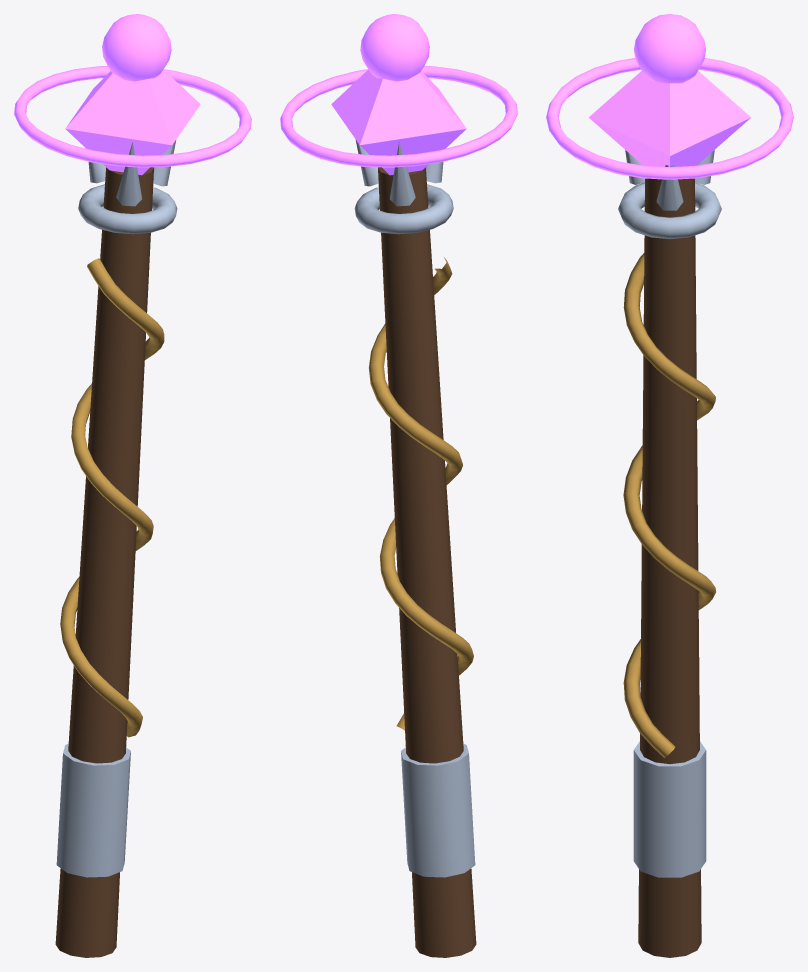
Rendered from weapon_staff.glb.
3 views of the same model, side by side, from view 1: azimuth 30°, elevation 25°; view 2: azimuth 150°, elevation 25°; view 3: azimuth 270°, elevation 25° (orthographic). The views are drawn at different scales.
Visible parts, largest first — view 1: blade_mesh, weapon_rune, weapon_grip, staff_vine, weapon_staff, weapon_rune_halo, staff_prong_1; view 2: blade_mesh, weapon_rune, weapon_grip, weapon_staff, staff_vine, weapon_rune_halo, staff_prong_2; view 3: blade_mesh, weapon_rune, weapon_grip, staff_vine, weapon_staff, weapon_rune_halo, staff_prong_0.
Part boxes in pixels (left/top/right/bottom): blade_mesh: left=55, top=167, right=153, bottom=957; weapon_rune: left=65, top=69, right=200, bottom=175; weapon_grip: left=56, top=743, right=130, bottom=877; staff_vine: left=60, top=258, right=164, bottom=737; weapon_staff: left=78, top=14, right=177, bottom=234; weapon_rune_halo: left=14, top=66, right=251, bottom=167; staff_prong_1: left=116, top=142, right=141, bottom=206; blade_mesh: left=378, top=167, right=476, bottom=957; weapon_rune: left=331, top=69, right=466, bottom=175; weapon_grip: left=401, top=743, right=475, bottom=877; weapon_staff: left=354, top=14, right=453, bottom=234; staff_vine: left=368, top=257, right=473, bottom=730; weapon_rune_halo: left=280, top=66, right=517, bottom=167; staff_prong_2: left=390, top=142, right=415, bottom=206; blade_mesh: left=638, top=178, right=701, bottom=957; weapon_rune: left=589, top=71, right=750, bottom=166; weapon_grip: left=633, top=741, right=706, bottom=877; staff_vine: left=623, top=253, right=715, bottom=757; weapon_staff: left=618, top=14, right=721, bottom=239; weapon_rune_halo: left=546, top=58, right=793, bottom=179; staff_prong_0: left=656, top=165, right=683, bottom=210.
Bounding box in the file's own units: 0.547 × 2.33 × 0.548.
